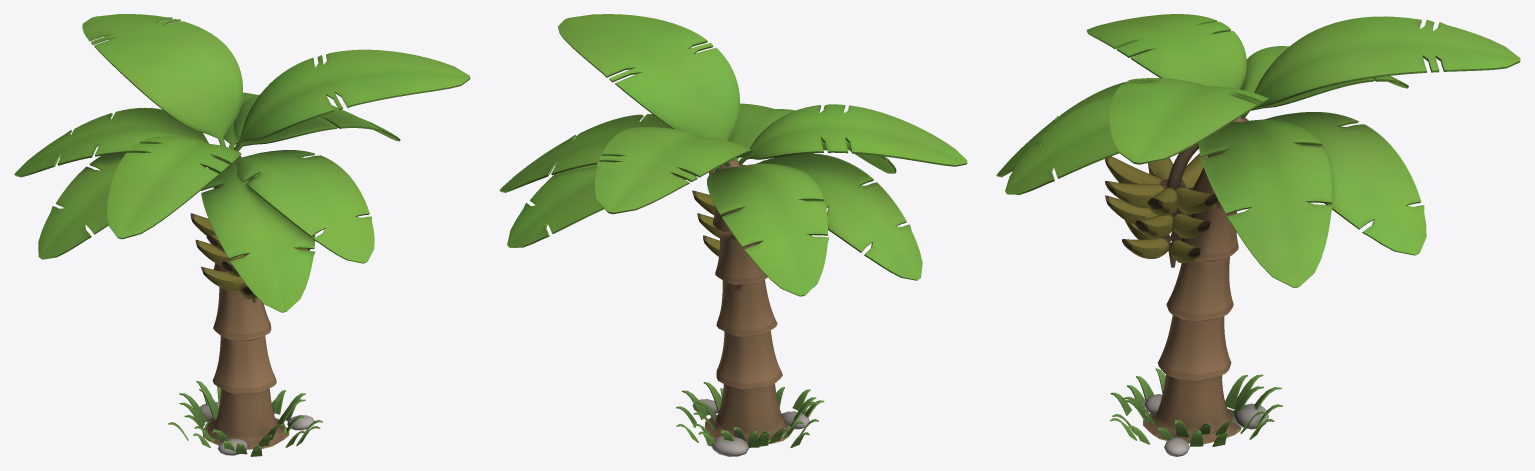
Rendered from SK_BananaTree_A.fbx.
3 views of the same model, side by side, from view 1: azimuth 30°, elevation 25°; view 2: azimuth 150°, elevation 25°; view 3: azimuth 270°, elevation 25° (orthographic). The views are drawn at different scales.
Visible parts, largest first — view 1: SK_BananaTree_A; view 2: SK_BananaTree_A; view 3: SK_BananaTree_A.
Part boxes in pixels (x1,y1,x2,y2): SK_BananaTree_A: [14, 14, 470, 456]; SK_BananaTree_A: [499, 14, 967, 456]; SK_BananaTree_A: [996, 14, 1520, 456].
Size of the model in its own units: 678 by 578 by 698.
